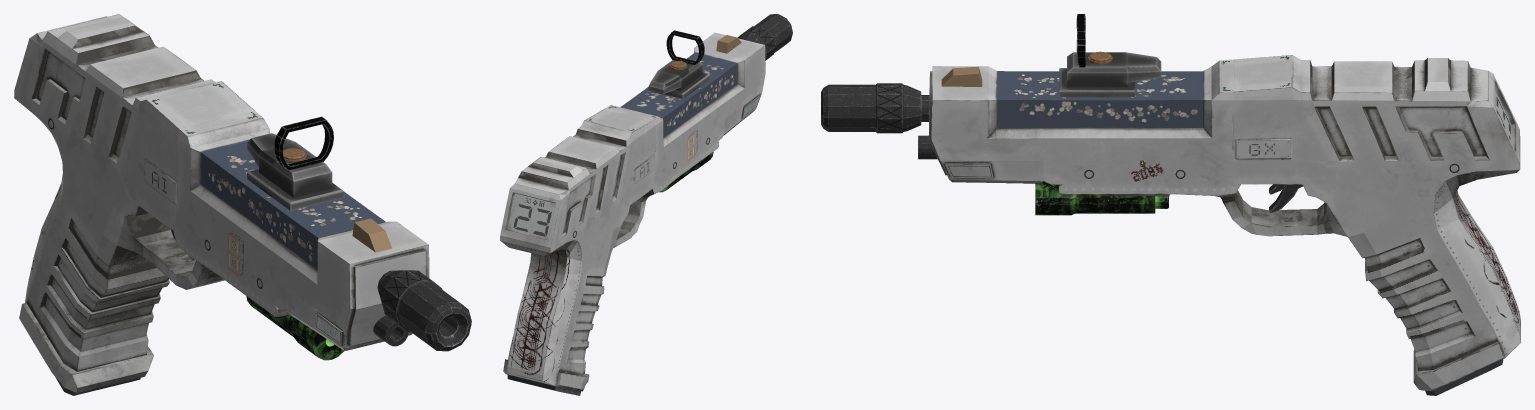
The model's file is sci-figun.fbx.
The picture shows the model from 3 angles, left to right: view 1: azimuth 30°, elevation 25°; view 2: azimuth 150°, elevation 25°; view 3: azimuth 270°, elevation 25°; orthographic projection. The views are drawn at different scales.
Visible parts, largest first — view 1: Cube, Cylinder, Cube.002, Cylinder.002, Cube.003, Cube.001, Cylinder.003; view 2: Cube, Cube.002, Cylinder, Cube.003, Cube.001, Cylinder.002; view 3: Cube, Cylinder, Cube.002, Cylinder.002, Cube.001.
Boxes of the visible parts, x1,y1,x2,y2 form: Cube: (14,14,429,395); Cylinder: (377,270,471,351); Cube.002: (247,133,344,210); Cylinder.002: (246,296,343,360); Cube.003: (274,116,333,170); Cube.001: (352,218,392,252); Cylinder.003: (373,315,408,346); Cube: (500,32,765,395); Cube.002: (648,58,710,98); Cylinder: (738,14,792,60); Cube.003: (666,30,704,65); Cube.001: (716,35,741,53); Cylinder.002: (659,152,713,192); Cube: (929,55,1520,395); Cylinder: (821,83,929,133); Cube.002: (1059,52,1161,97); Cylinder.002: (1035,181,1168,215); Cube.001: (941,66,982,86).
Bounding box in the file's own units: 40.51 × 180 × 319.
